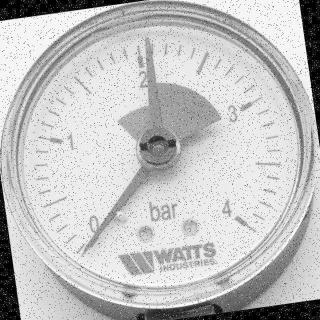gauge: (1, 1, 319, 315), (136, 126, 180, 168), (219, 197, 255, 239), (71, 229, 105, 266), (80, 241, 94, 255), (142, 34, 154, 49)
